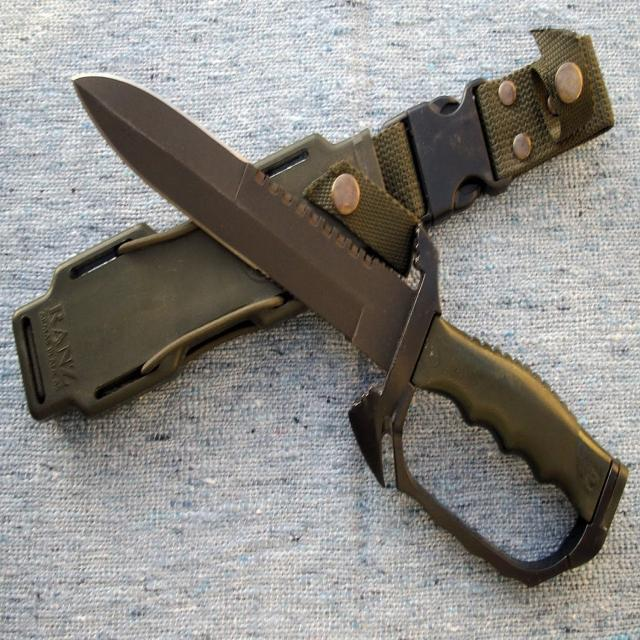knife: (71, 65, 631, 593)
